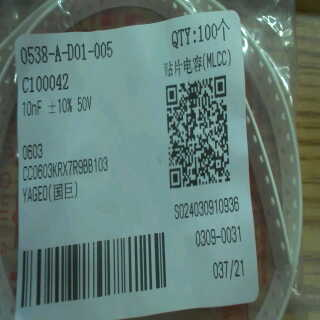10nF: (20, 95, 43, 124)
